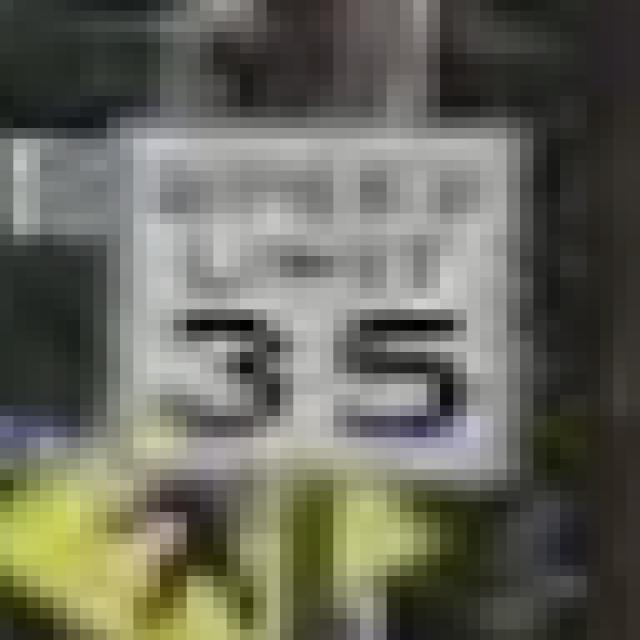speedLimit35: (138, 123, 508, 477)
